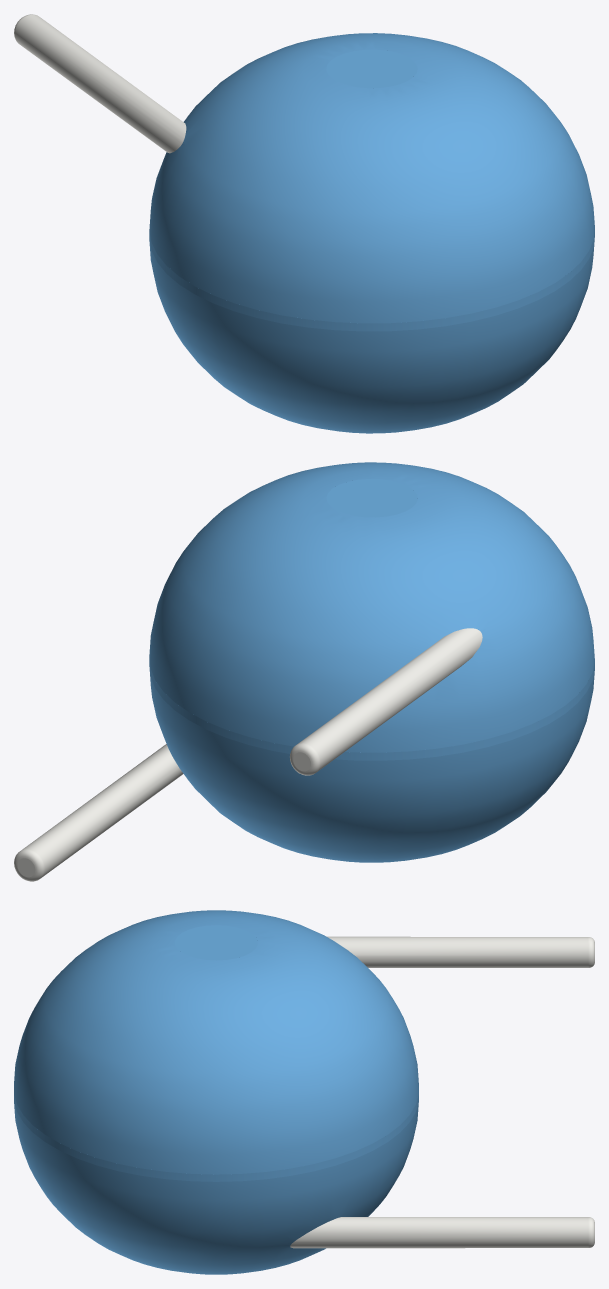
Rendered from RV_Disc_D7mm_W5.7mm_P5mm.glb.
3 renders of one model, top to bottom at view 1: azimuth 30°, elevation 25°; view 2: azimuth 150°, elevation 25°; view 3: azimuth 270°, elevation 25°, orthographic. The views are drawn at different scales.
Parts seen in each view (by area): view 1: Shape_IndexedFaceSet.001, Shape_IndexedFaceSet.002, Shape_IndexedFaceSet.004, Shape_IndexedFaceSet, Shape_IndexedFaceSet.003; view 2: Shape_IndexedFaceSet.001, Shape_IndexedFaceSet.002, Shape_IndexedFaceSet.004, Shape_IndexedFaceSet.006, Shape_IndexedFaceSet, Shape_IndexedFaceSet.003, Shape_IndexedFaceSet.008, Shape_IndexedFaceSet.007; view 3: Shape_IndexedFaceSet.001, Shape_IndexedFaceSet.002, Shape_IndexedFaceSet.006, Shape_IndexedFaceSet.004, Shape_IndexedFaceSet, Shape_IndexedFaceSet.003.
Part boxes in pixels (x1,y1,x2,y2): Shape_IndexedFaceSet.001: [149, 33, 594, 323]; Shape_IndexedFaceSet.002: [149, 237, 594, 433]; Shape_IndexedFaceSet.004: [15, 14, 186, 153]; Shape_IndexedFaceSet: [149, 229, 594, 331]; Shape_IndexedFaceSet.003: [326, 49, 417, 88]; Shape_IndexedFaceSet.001: [149, 462, 594, 752]; Shape_IndexedFaceSet.002: [149, 666, 594, 862]; Shape_IndexedFaceSet.004: [297, 628, 482, 771]; Shape_IndexedFaceSet.006: [21, 744, 183, 877]; Shape_IndexedFaceSet: [149, 658, 594, 760]; Shape_IndexedFaceSet.003: [326, 479, 417, 517]; Shape_IndexedFaceSet.008: [14, 849, 44, 881]; Shape_IndexedFaceSet.007: [290, 743, 320, 775]; Shape_IndexedFaceSet.001: [14, 910, 418, 1174]; Shape_IndexedFaceSet.002: [14, 1102, 418, 1274]; Shape_IndexedFaceSet.006: [290, 1217, 588, 1248]; Shape_IndexedFaceSet.004: [327, 936, 588, 967]; Shape_IndexedFaceSet: [14, 1094, 418, 1181]; Shape_IndexedFaceSet.003: [175, 925, 257, 960].
Bounding box in the file's own units: 2.76 × 2.24 × 3.95.
